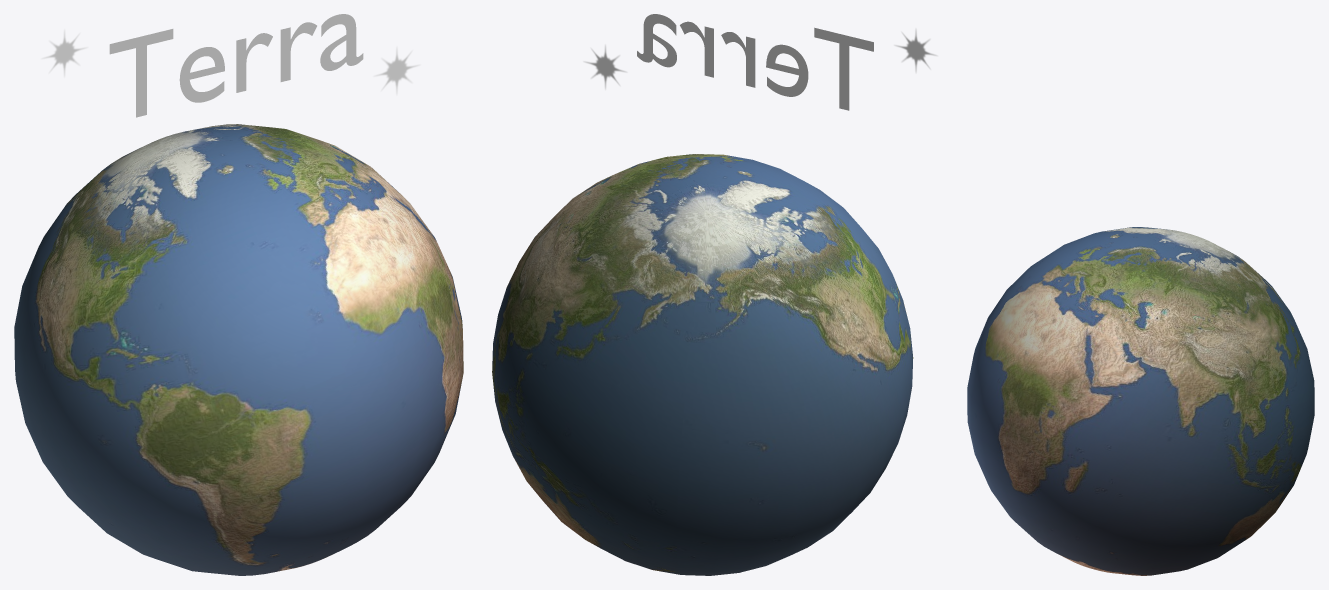
The model's file is terra.glb.
The picture shows the model from 3 angles, left to right: view 1: azimuth 30°, elevation 25°; view 2: azimuth 150°, elevation 25°; view 3: azimuth 270°, elevation 25°; orthographic projection. The views are drawn at different scales.
Parts seen in each view (by area): view 1: Terra, Text.004, Plane.036, Plane.004; view 2: Terra, Text.004; view 3: Terra.
Part boxes in pixels (x1,y1,x2,y2): Terra: (14, 124, 463, 575); Text.004: (109, 14, 363, 117); Plane.036: (374, 48, 419, 93); Plane.004: (42, 30, 87, 76); Terra: (492, 154, 913, 575); Text.004: (637, 14, 873, 110); Terra: (967, 227, 1314, 575).
Size of the model in its own units: 1.4 by 1.9 by 1.3.
3 materials, 2 textured.
